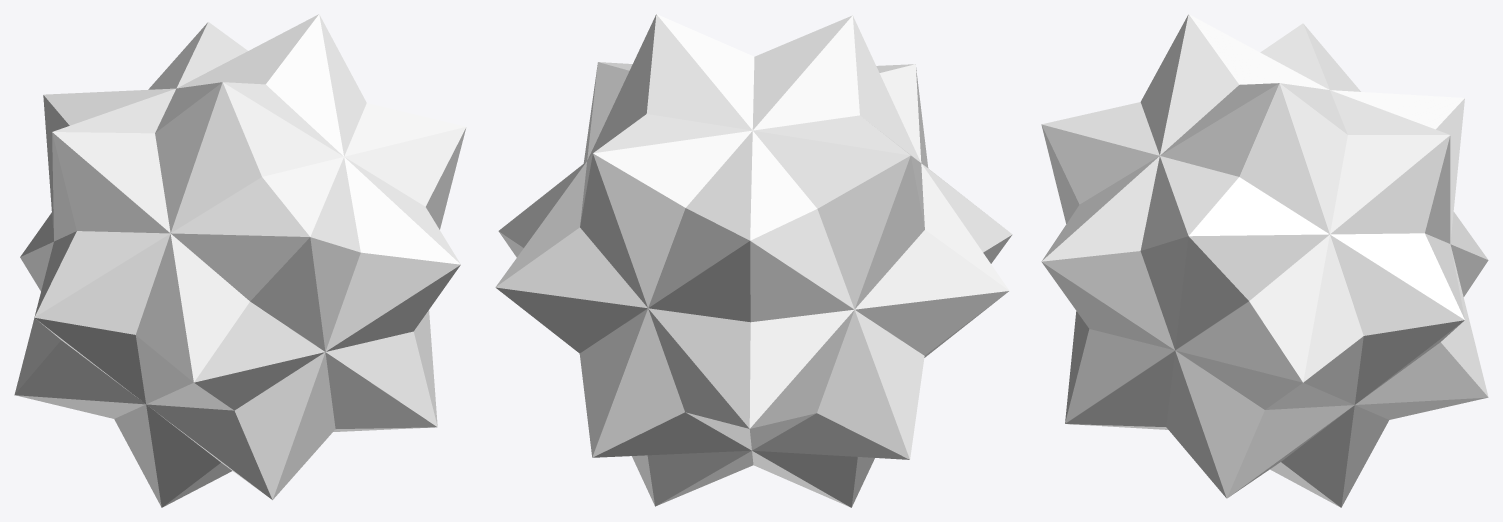
The model's file is rhombicosacron.gltf.
The picture shows the model from 3 angles, left to right: view 1: azimuth 30°, elevation 25°; view 2: azimuth 150°, elevation 25°; view 3: azimuth 270°, elevation 25°; orthographic projection. The views are drawn at different scales.
Visible parts, largest first — view 1: Mesh; view 2: Mesh; view 3: Mesh.
Boxes of the visible parts, box(x1,y1,x2,y2) form: Mesh: box(14, 14, 466, 507); Mesh: box(495, 14, 1012, 507); Mesh: box(1041, 14, 1488, 507).
Size of the model in its own units: 2.79 by 2.61 by 2.41.
1 material, 1 textured.
